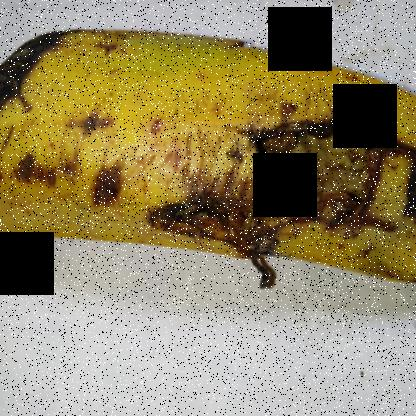rotten: (151, 98, 415, 284), (0, 1, 60, 232)
